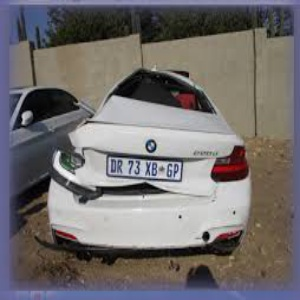bonnet: (70, 37, 178, 116)
bumper: (18, 125, 145, 243)
